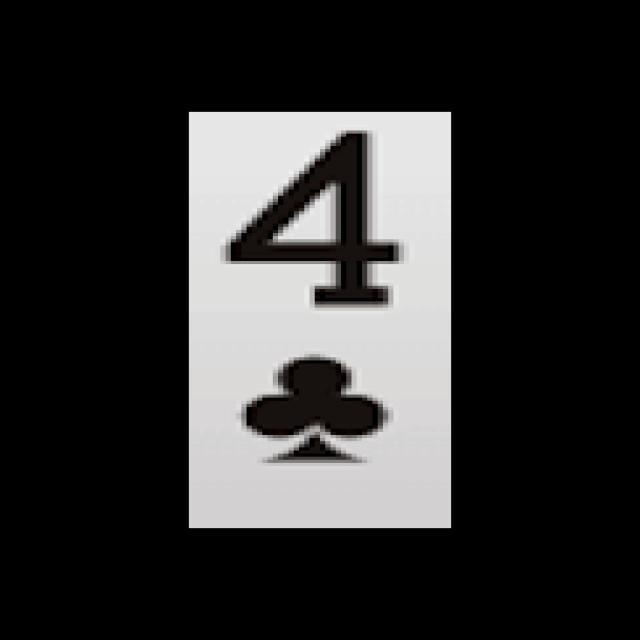4C: (205, 118, 428, 483)
